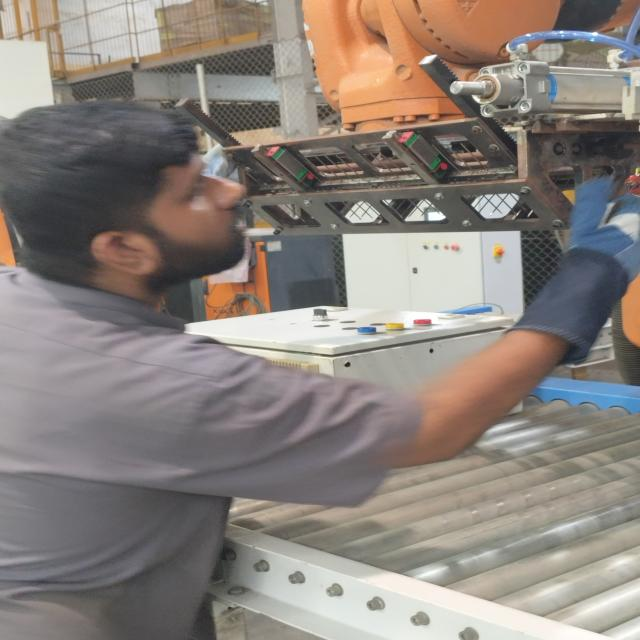Gloves-Detection: (504, 183, 637, 353)
